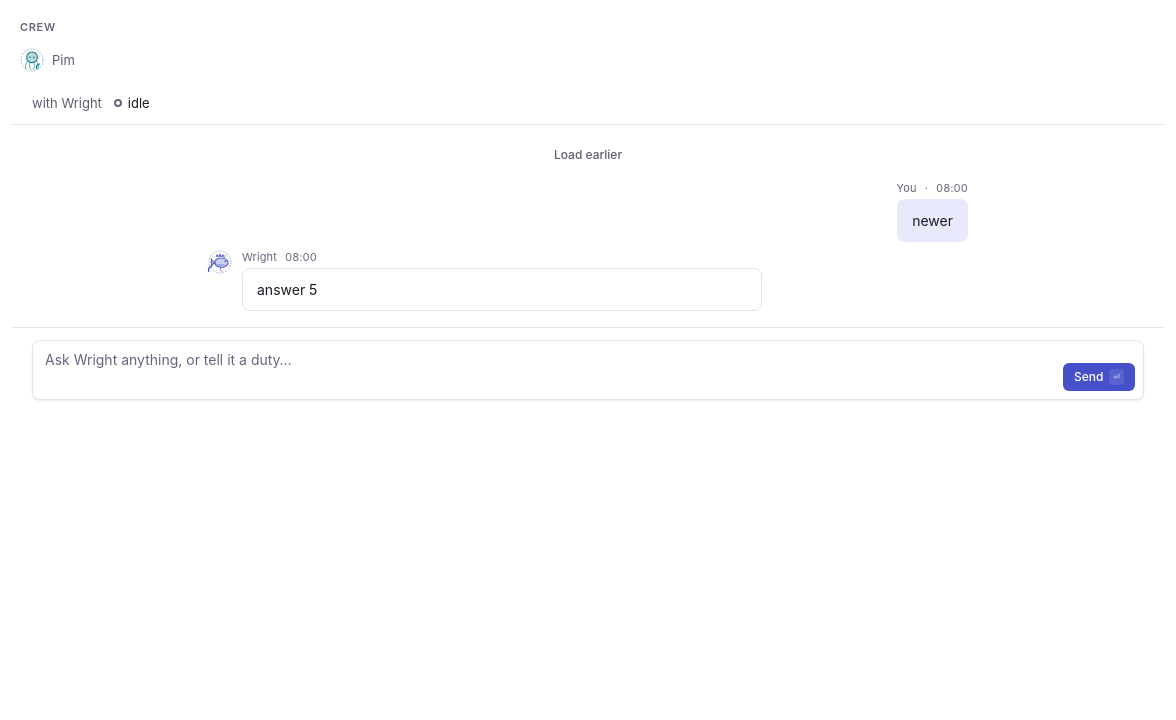
Test: thread › Load earlier sends before and prepends
This screenshot has width=1176, height=720.
Expected: the text "newer" is shown, [912,212,953,229]
Click the button "Load earlier" at (588, 155), box [543,141,633,169]
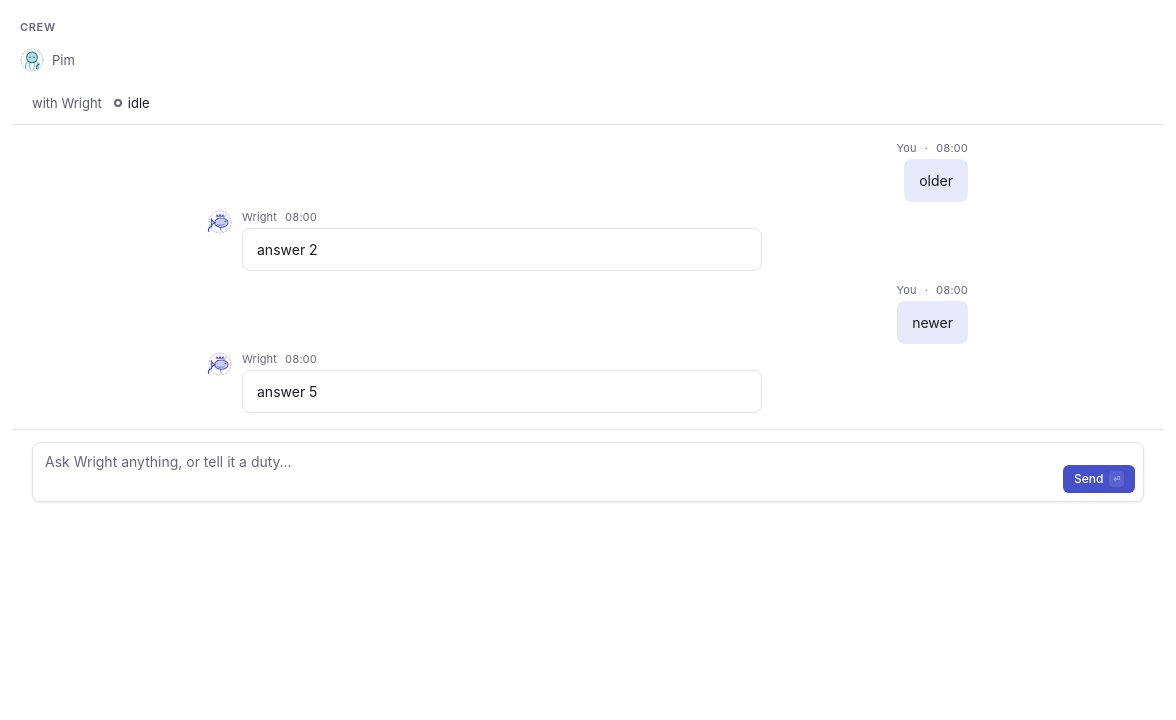
Now the text "older" is shown, box [919,172,953,189]
Now the button "Load earlier" is gone
